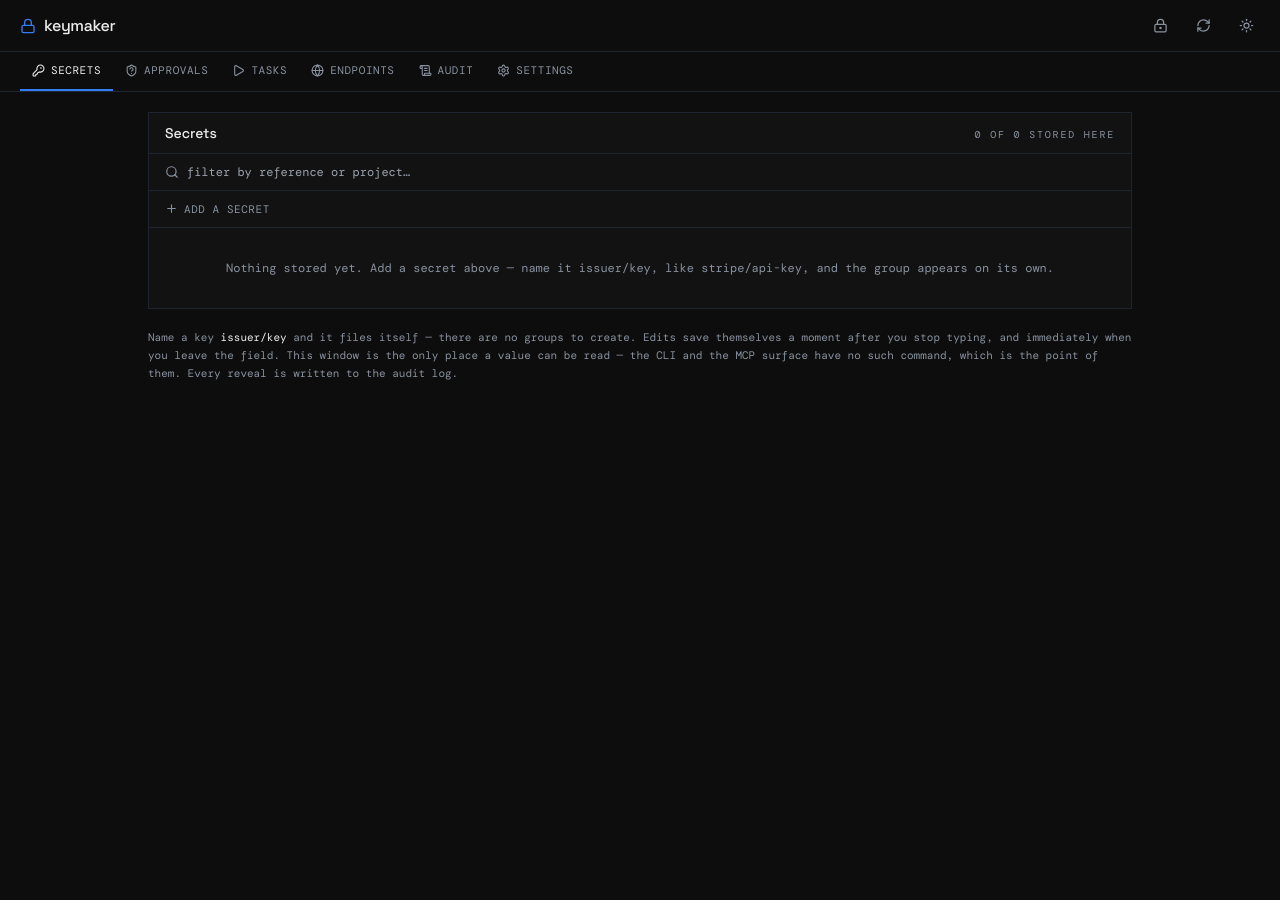
Test: says why biometrics are unavailable and offers no unlock
The width and height of the screenshot is (1280, 900).
What coordinates should you click on to do the following:
click the button "Settings"
I would click on:
 (535, 71)
Its box is [485,52,586,90].
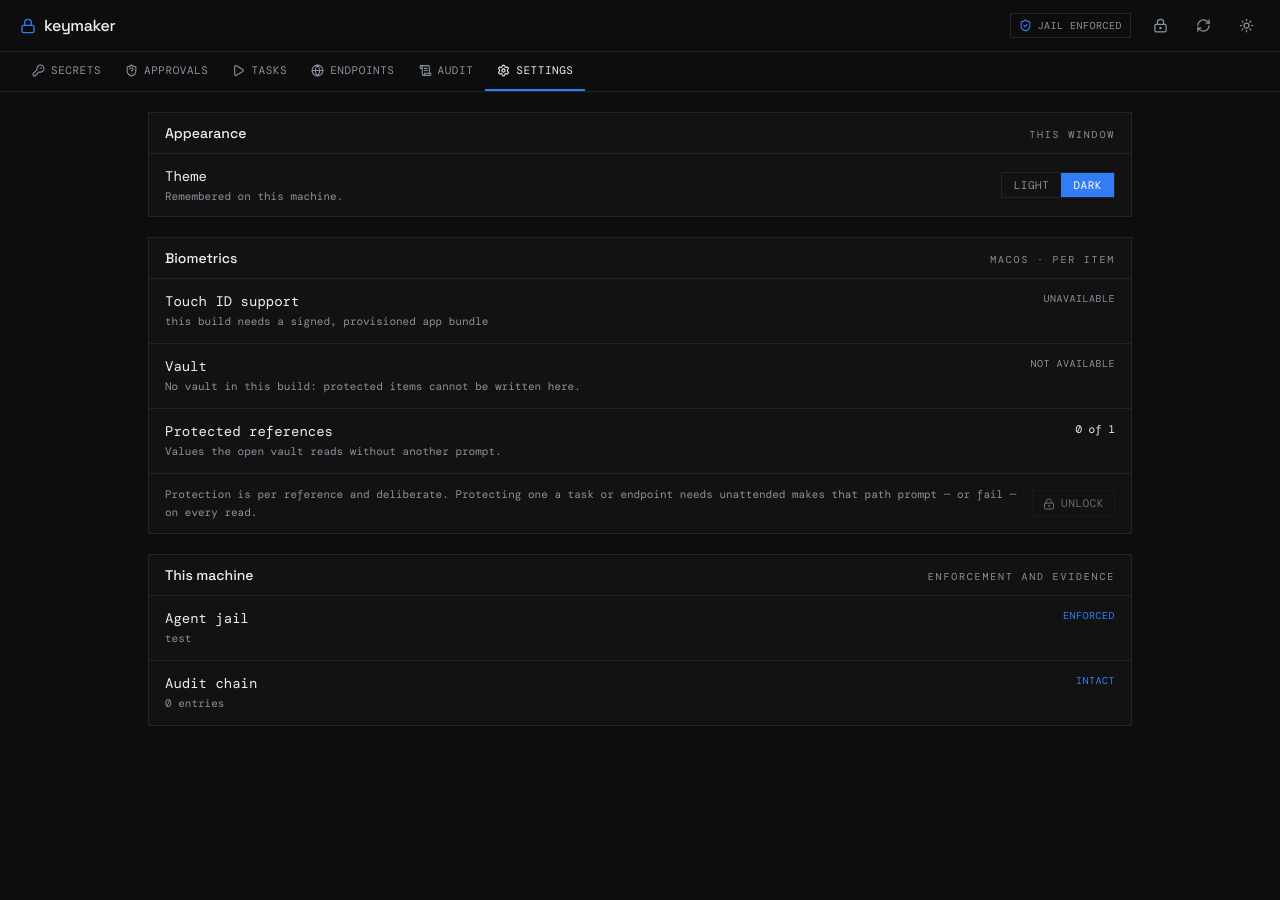
Expected: the text "this build needs a signed, provisioned app bundle" is shown, [165,314,488,328]
Expected: the button "unlock" is disabled, [1032,490,1115,517]
